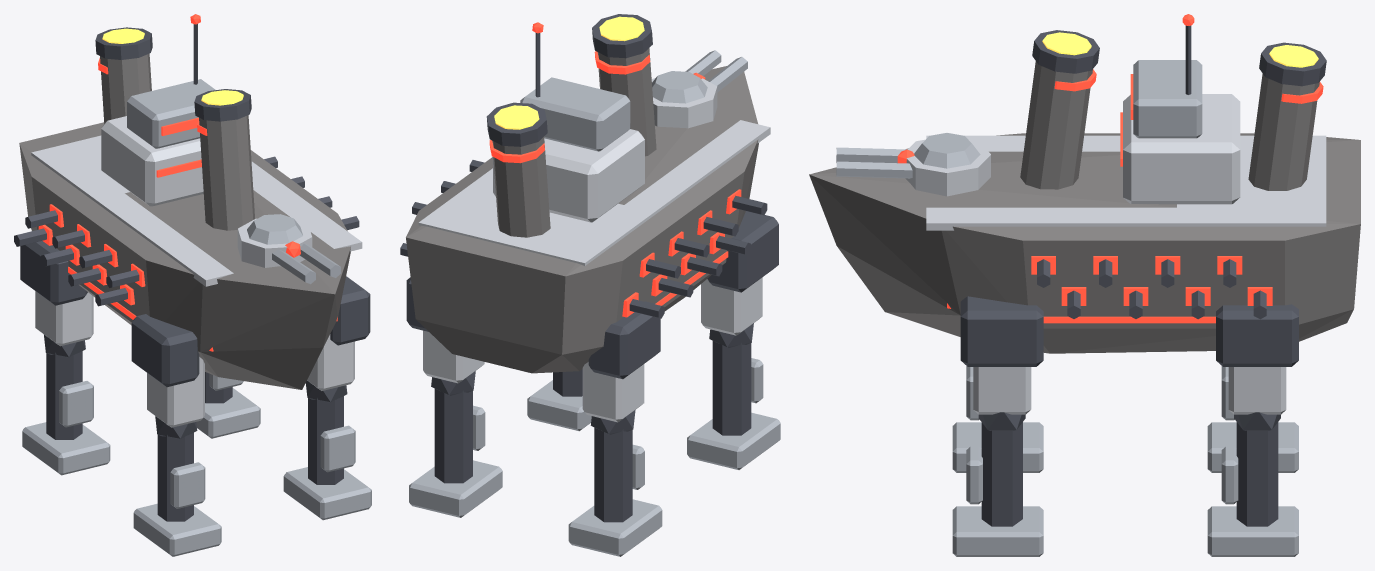
Rendered from dreadnought.glb.
3 renders of one model, left to right at view 1: azimuth 30°, elevation 25°; view 2: azimuth 150°, elevation 25°; view 3: azimuth 270°, elevation 25°, orthographic. The views are drawn at different scales.
Visible parts, largest first — view 1: Hull, Cube.016, Cube.017, Cylinder.021, Cube.004, Cube.018, Cube.014, Cube.006, Cube.002, Cube.005, Cube.012, Cube.013 (+22 smaller); view 2: Hull, Cube.016, Cube.017, Cube.018, Cylinder.024, Cylinder.001, Cylinder.003, Cylinder.002, Cube.012, Cube.004, Cube.014, Cube.006 (+23 smaller); view 3: Hull, Cube.016, Cube.017, Cylinder.021, Cylinder.024, Cube, Cube.018, Cube.008, Cylinder.002, Cylinder, Cube.010, Cube.002 (+17 smaller).
Part boxes in pixels (x1,y1,x2,y2): Hull: [19, 122, 350, 389]; Cube.016: [31, 135, 362, 286]; Cube.017: [101, 116, 203, 206]; Cylinder.021: [199, 115, 254, 230]; Cube.004: [131, 314, 199, 387]; Cube.018: [127, 79, 215, 148]; Cube.014: [22, 422, 110, 475]; Cube.006: [133, 503, 221, 556]; Cube.002: [283, 467, 371, 520]; Cube.005: [147, 357, 204, 427]; Cube.012: [20, 241, 87, 305]; Cube.013: [35, 291, 93, 346]; Hull: [406, 66, 758, 373]; Cube.016: [418, 120, 770, 265]; Cube.017: [493, 129, 644, 222]; Cube.018: [520, 77, 630, 151]; Cylinder.024: [492, 136, 550, 237]; Cylinder.001: [712, 341, 751, 435]; Cylinder.003: [594, 427, 632, 522]; Cylinder.002: [434, 389, 472, 483]; Cube.012: [588, 301, 660, 379]; Cube.004: [707, 211, 778, 292]; Cube.014: [568, 499, 662, 556]; Cube.006: [687, 412, 780, 469]; Hull: [809, 133, 1360, 353]; Cube.016: [926, 135, 1326, 230]; Cube.017: [1123, 94, 1240, 204]; Cylinder.021: [1020, 61, 1092, 189]; Cylinder.024: [1248, 74, 1319, 190]; Cube: [960, 296, 1043, 366]; Cube.018: [1133, 60, 1202, 138]; Cube.008: [1216, 304, 1298, 366]; Cylinder.002: [1236, 422, 1278, 526]; Cylinder: [981, 422, 1022, 526]; Cube.010: [1207, 506, 1298, 556]; Cube.002: [952, 506, 1043, 556].
Size of the model in its own units: 2.37 by 4.02 by 4.
